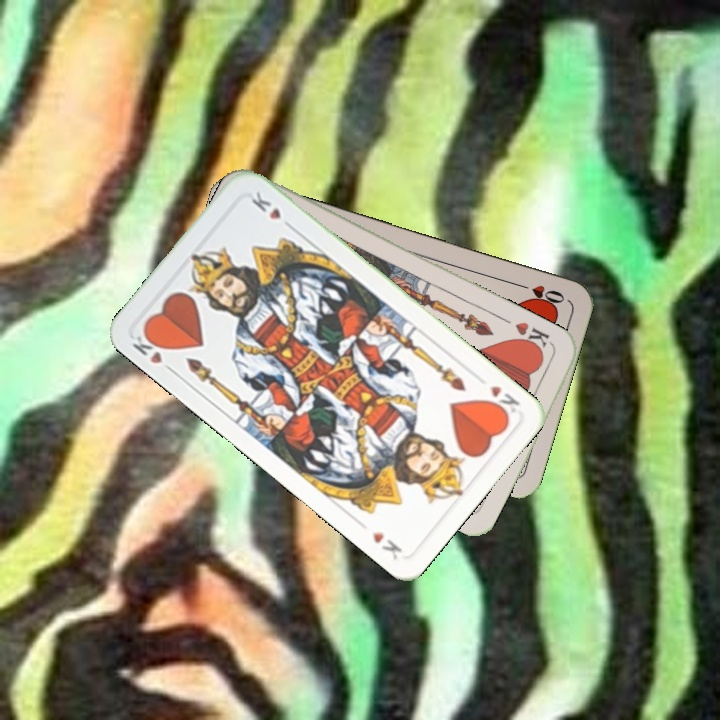HK: (128, 326, 178, 376), (511, 317, 557, 355), (483, 381, 523, 421)
HO: (511, 278, 568, 306)
